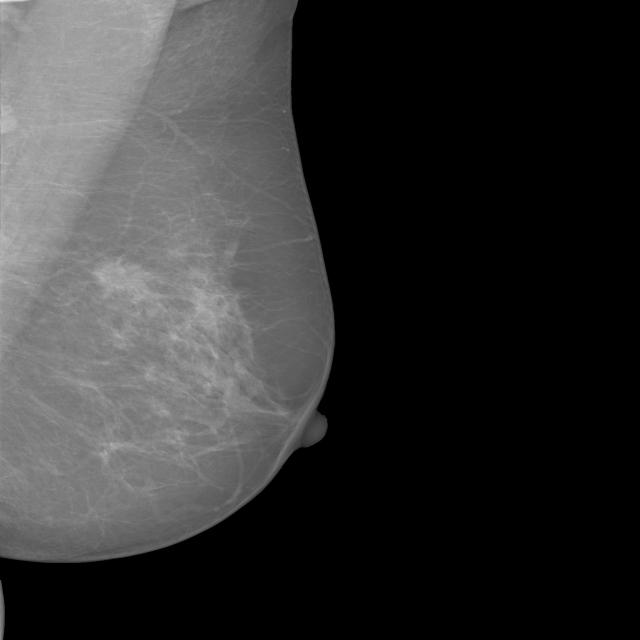Mass_1: (73, 242, 190, 316)
